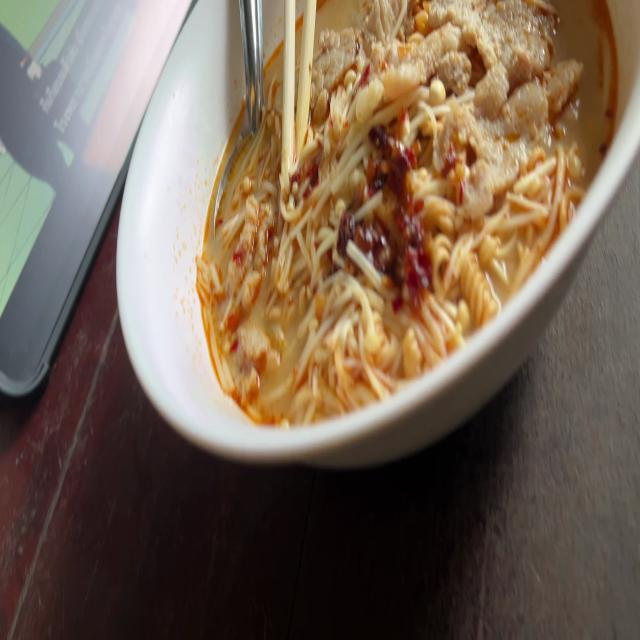noodle: (189, 0, 633, 436)
